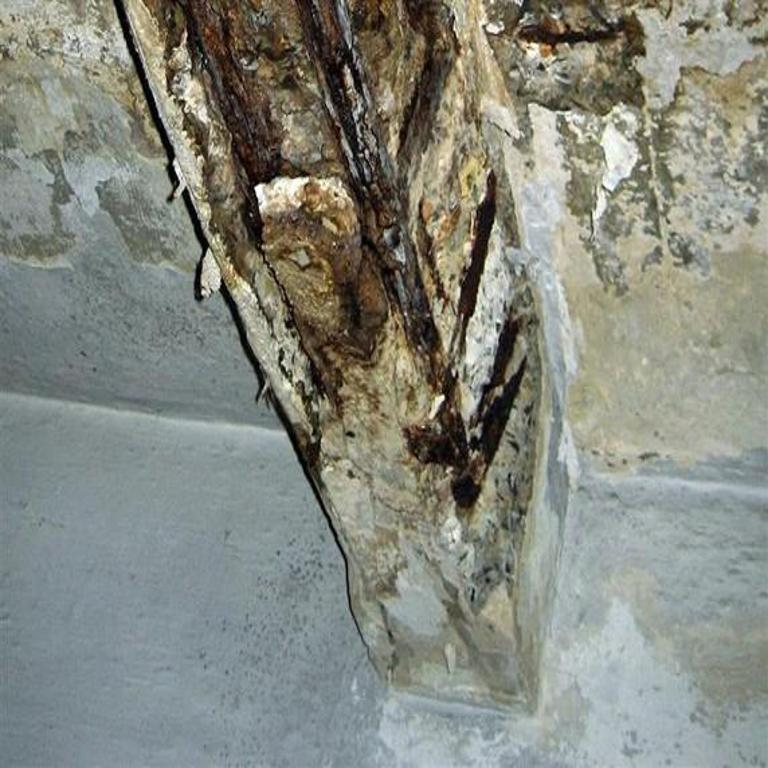exposed_rebar: (471, 320, 526, 479), (458, 172, 496, 329), (519, 21, 622, 44)
spalling: (124, 0, 672, 592)
